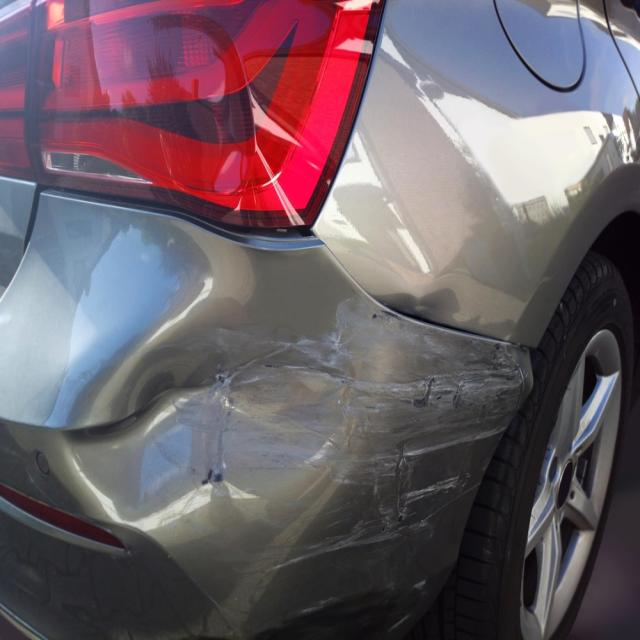Cabossage: (80, 327, 215, 541)
Dechirure: (15, 191, 45, 273)
Phare abime: (28, 145, 160, 209)
Rayure: (176, 307, 536, 627)
